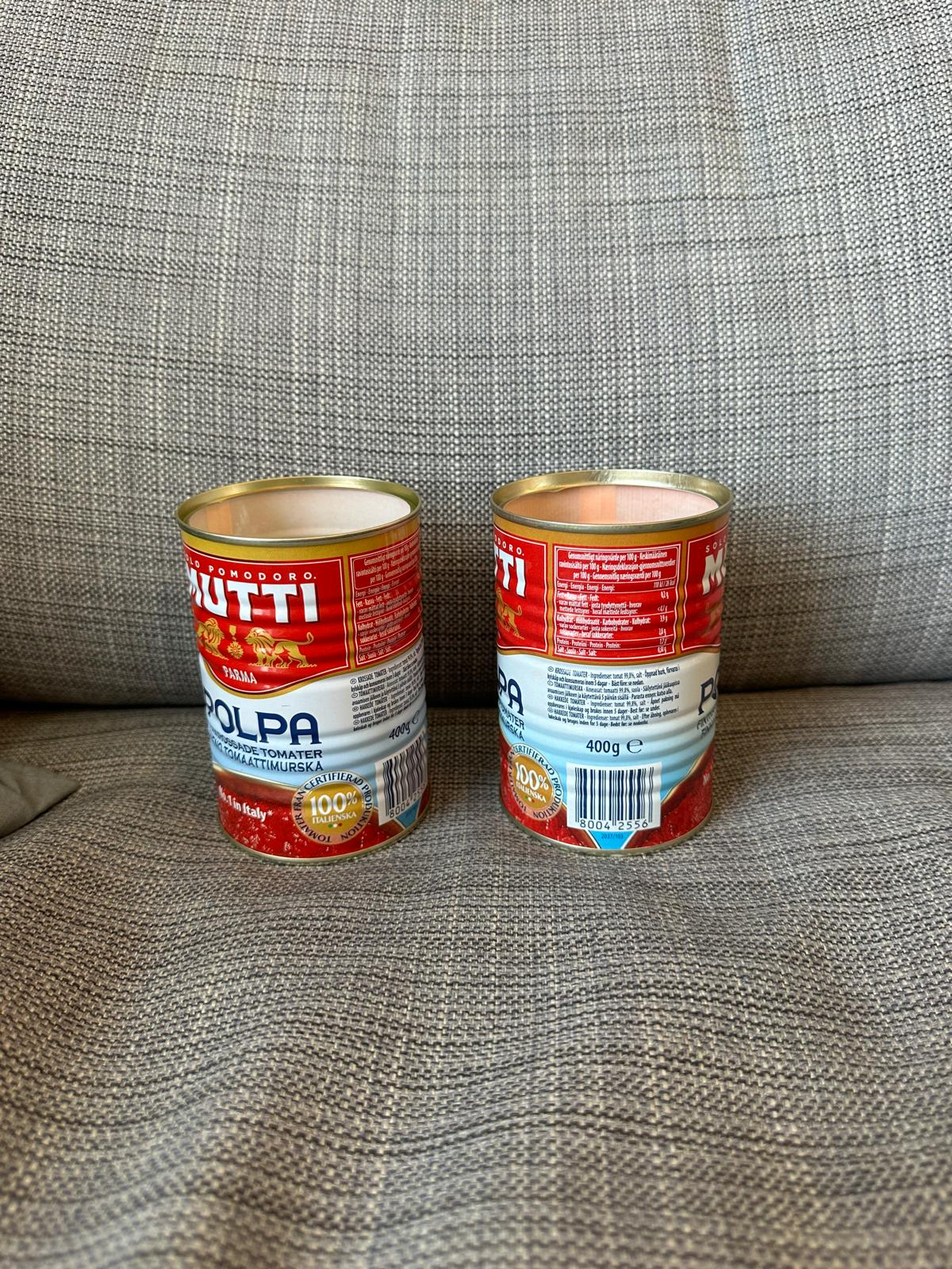Konservburk: (177, 473, 432, 866), (489, 469, 733, 857)
